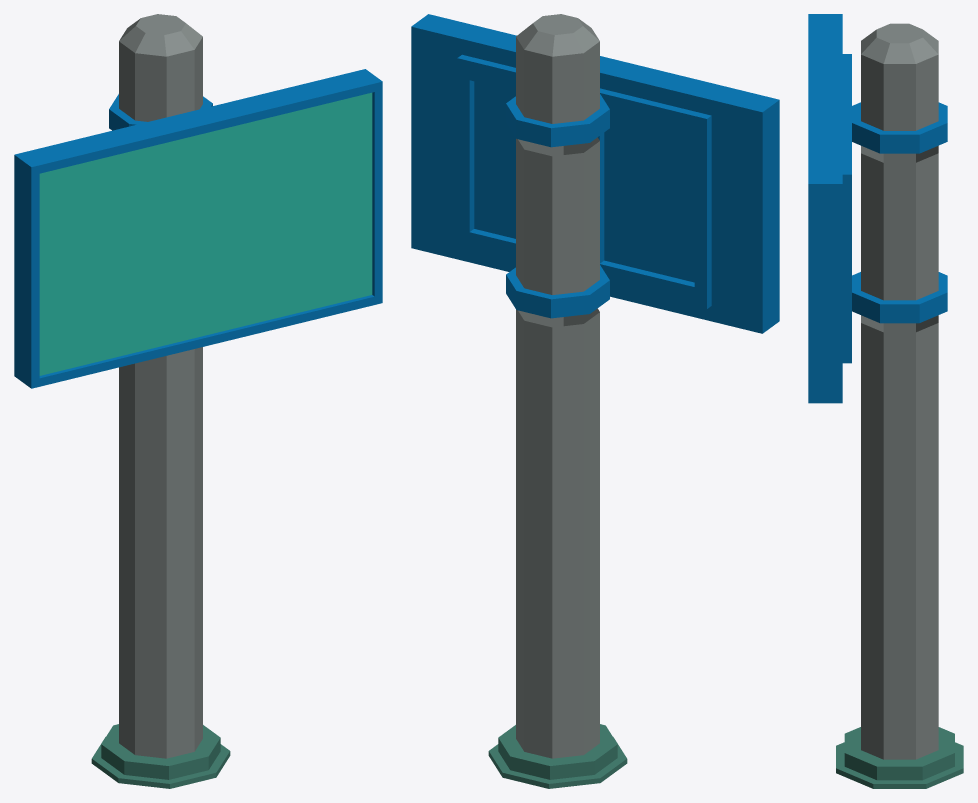
The model's file is SM_banner_02.glb.
The picture shows the model from 3 angles, left to right: view 1: azimuth 30°, elevation 25°; view 2: azimuth 150°, elevation 25°; view 3: azimuth 270°, elevation 25°; orthographic projection.
Visible parts, largest first — view 1: banner_A, SM_banner_02; view 2: banner_A, SM_banner_02; view 3: SM_banner_02, banner_A.
Boxes of the visible parts, box(x1,y1,x2,y2) form: banner_A: box(14, 69, 382, 388); SM_banner_02: box(91, 14, 230, 788); banner_A: box(411, 14, 779, 333); SM_banner_02: box(488, 14, 627, 788); SM_banner_02: box(836, 23, 963, 788); banner_A: box(808, 14, 947, 403).
Size of the model in its own units: 2.79 by 5.57 by 1.08.
1 material, 1 textured.
